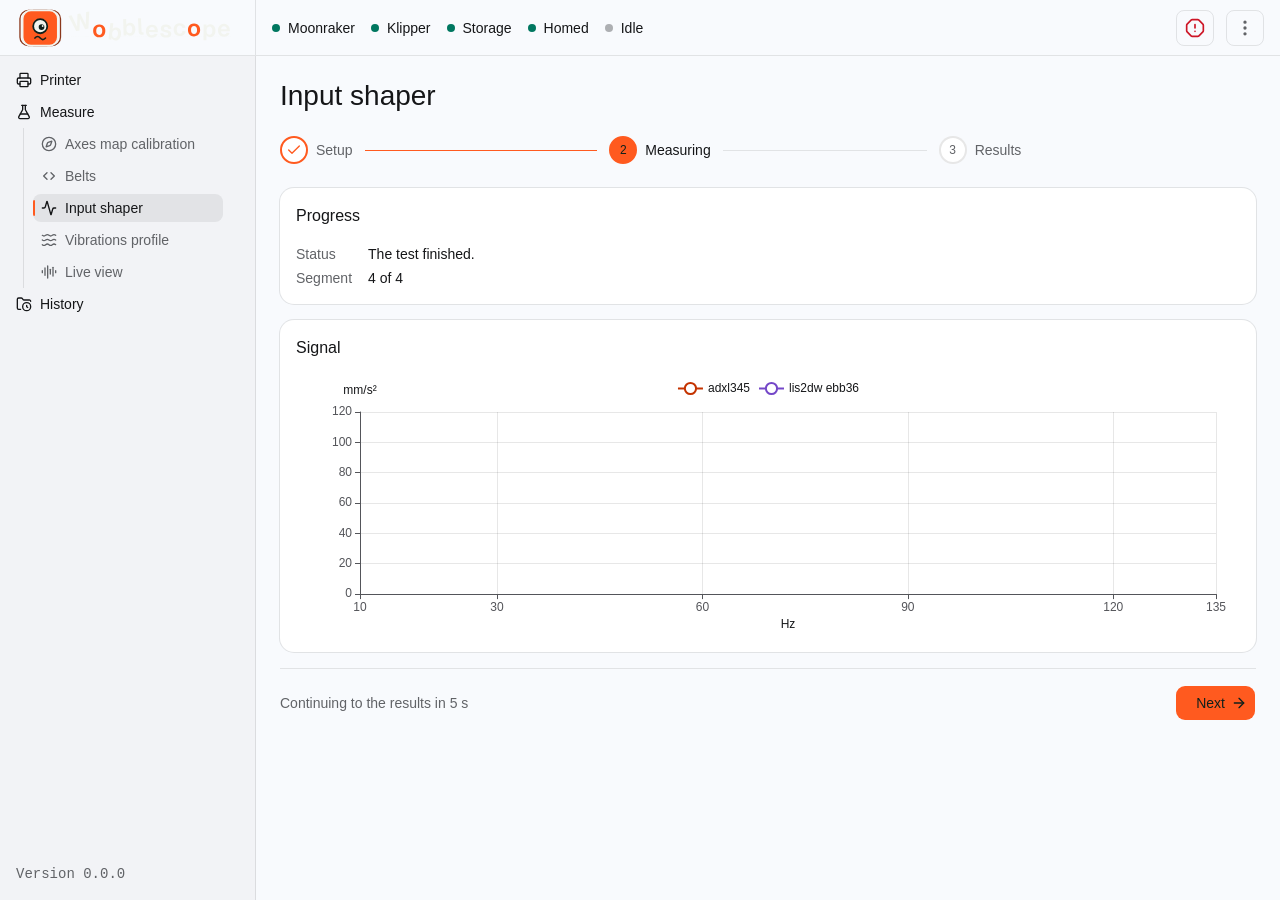
Scenario: a running test › when the test ends › stays on the measuring step with the last progress, and Next moves on at once
Expected: the text "Progress" is shown, [296,204,360,228]
Expected: the text "The test finished." is shown, [368,246,475,262]
Step 1. Click the button "Next" → (1216, 703), box [1175,685,1256,721]
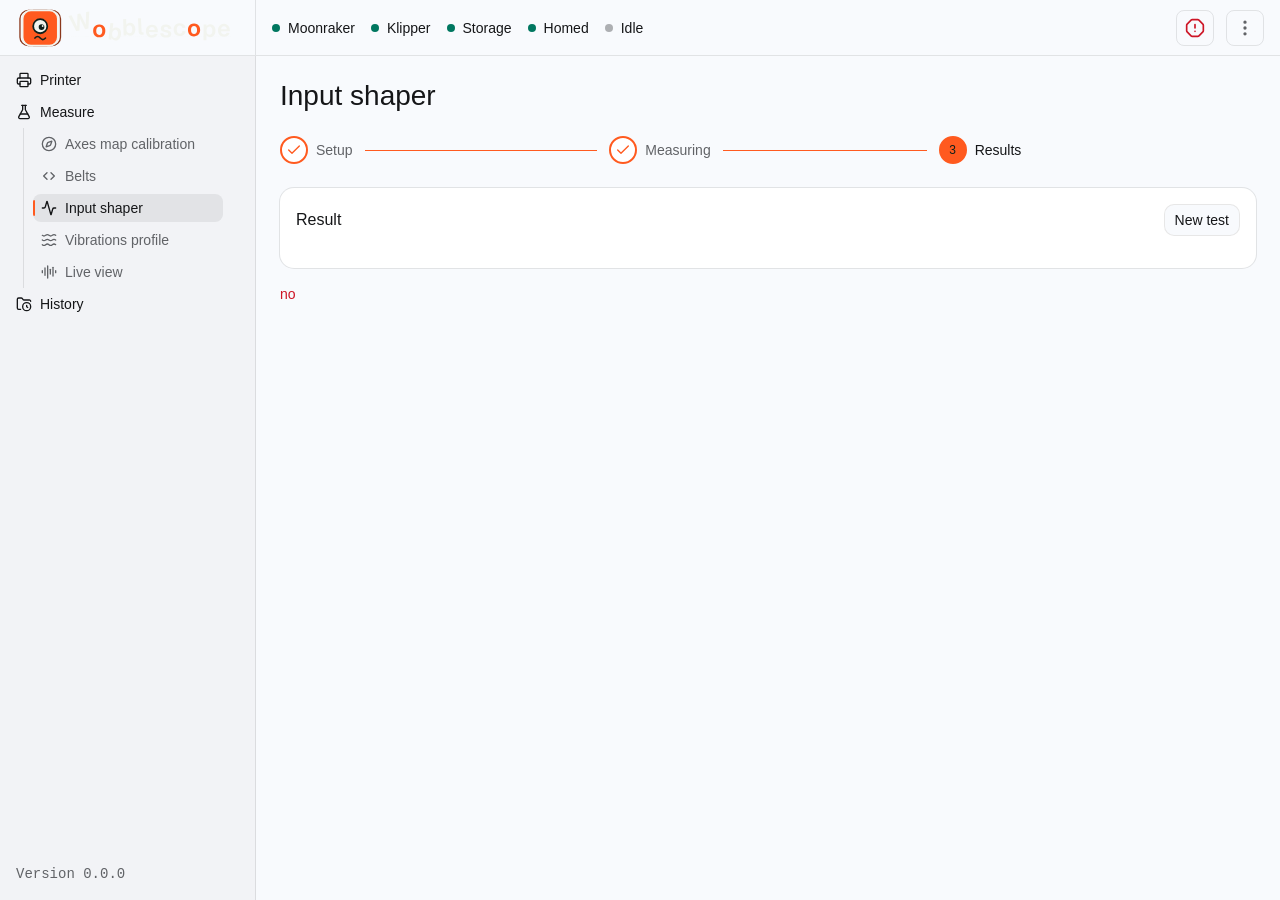
Expected: the element showing "3 Results" is shown, [939,136,1021,164]
Now the button "New test" is shown, box [1164,204,1240,236]
